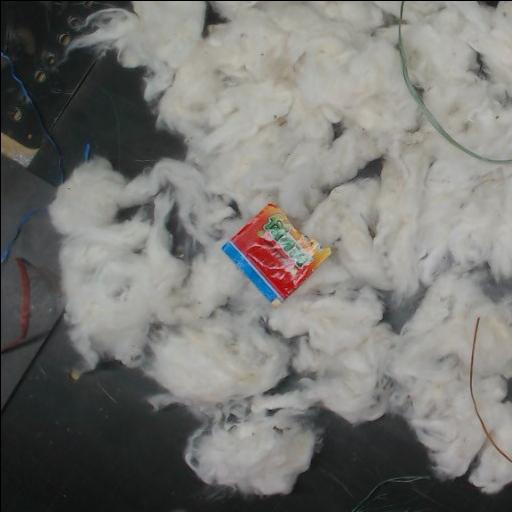conveyor belt: (1, 1, 512, 512), (401, 1, 512, 156), (206, 5, 222, 25)
cotton: (50, 1, 512, 494), (403, 1, 512, 157)
packet: (222, 203, 330, 304)
thread: (396, 1, 512, 164), (1, 257, 60, 400), (469, 316, 512, 464), (349, 475, 431, 512), (1, 211, 33, 263)
